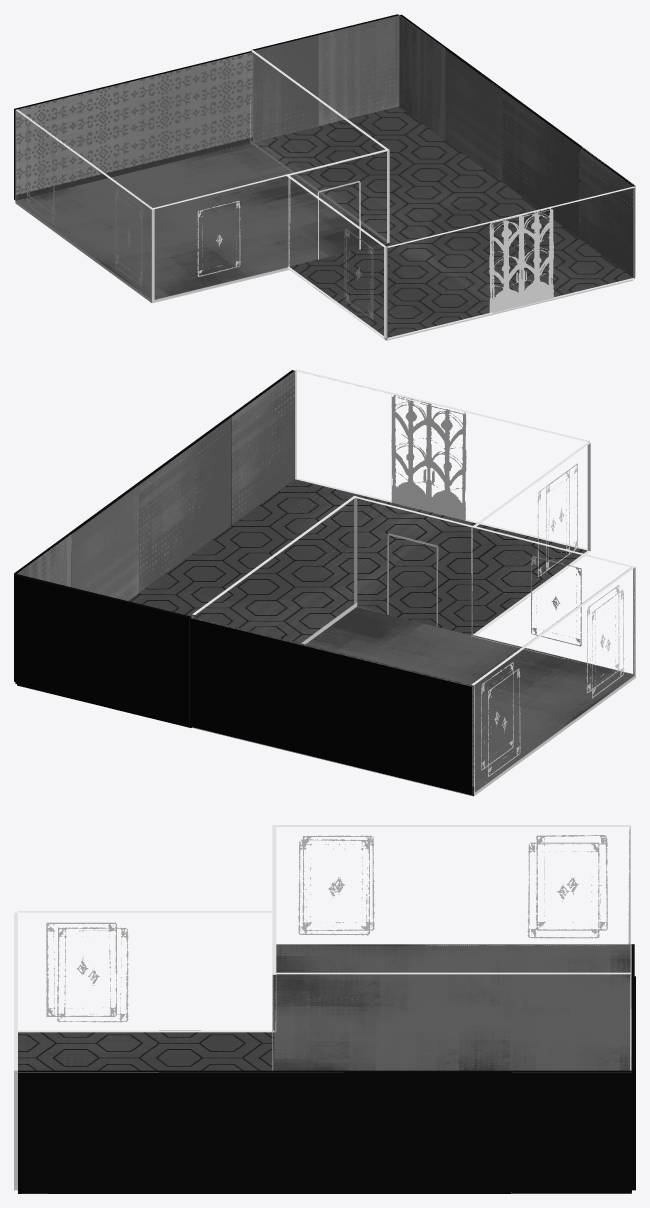
Rendered from Cenário_Escritório.fbx.
3 renders of one model, top to bottom at view 1: azimuth 30°, elevation 25°; view 2: azimuth 150°, elevation 25°; view 3: azimuth 270°, elevation 25°, orthographic. The views are drawn at different scales.
Parts seen in each view (by area): view 1: Hall, Escritório; view 2: Hall, Escritório; view 3: Hall, Escritório.
Boxes of the visible parts, bbox=[...] form: Hall: bbox=[251, 14, 635, 340]; Escritório: bbox=[14, 50, 389, 303]; Hall: bbox=[14, 369, 590, 727]; Escritório: bbox=[190, 496, 635, 796]; Hall: bbox=[14, 911, 635, 1193]; Escritório: bbox=[272, 825, 634, 1070].
Bounding box in the file's own units: 5920 × 1397 × 6280.
